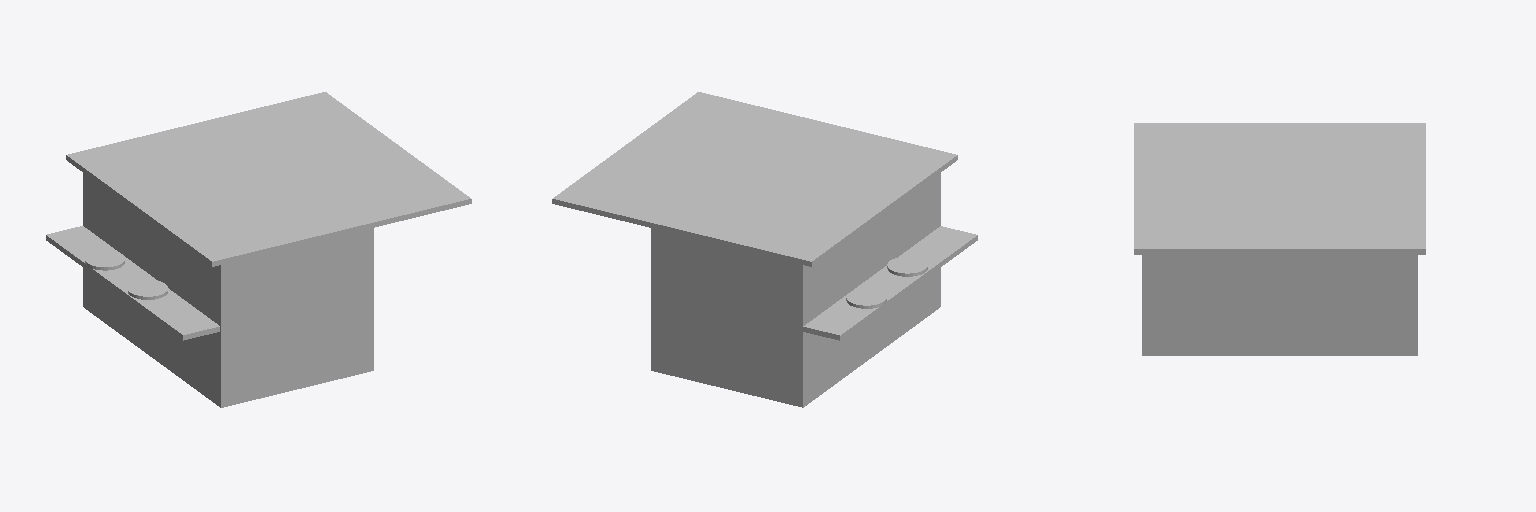
Rendered from counterBase002.obj.
3 views of the same model, side by side, from view 1: azimuth 30°, elevation 25°; view 2: azimuth 150°, elevation 25°; view 3: azimuth 270°, elevation 25° (orthographic).
Visible parts, largest first — view 1: counterBase; view 2: counterBase; view 3: counterBase.
Boxes of the visible parts, <box> form: counterBase: <box>46,92,471,407</box>; counterBase: <box>552,92,977,407</box>; counterBase: <box>1134,123,1425,355</box>.
Bounding box in the file's own units: 3.96 × 2.02 × 3.52.